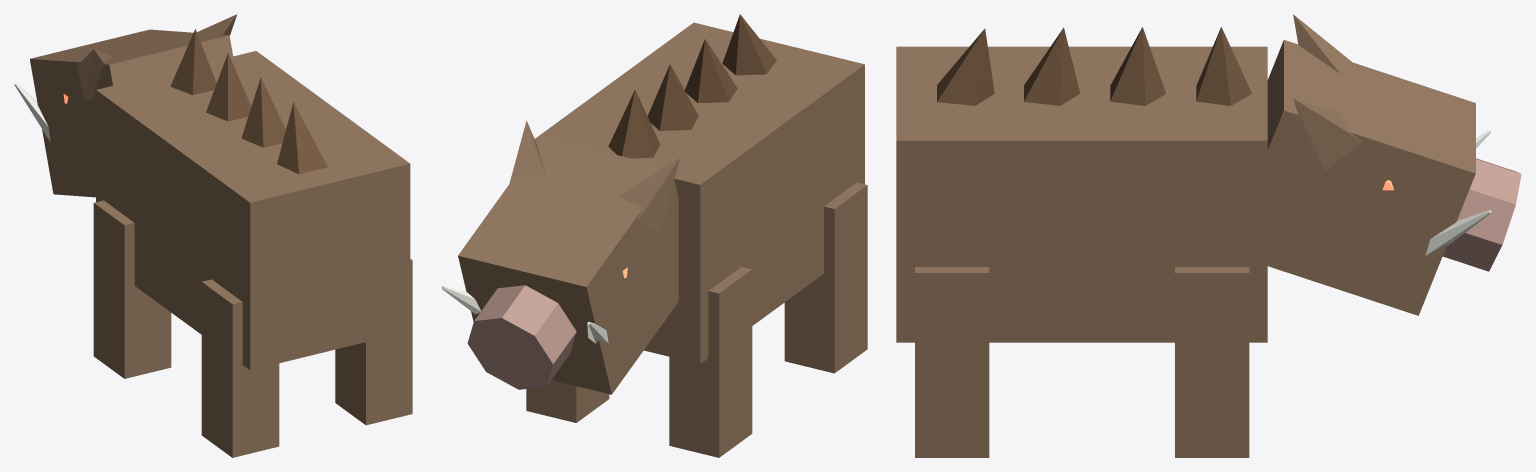
Rendered from WildBoar.fbx.
The picture shows the model from 3 angles, left to right: view 1: azimuth 30°, elevation 25°; view 2: azimuth 150°, elevation 25°; view 3: azimuth 270°, elevation 25°; orthographic projection. The views are drawn at different scales.
Parts seen in each view (by area): view 1: Torso, Head, Leg_BL, Leg_FL, Leg_BR, Mane_Chunk_1, Mane_Chunk_2, Mane_Chunk_3, Mane_Chunk_4, Ear_L, Ear_R, Tusk_L; view 2: Torso, Head, Leg_FL, Leg_BL, Snout, Leg_FR, Mane_Chunk_4, Ear_L, Mane_Chunk_3, Mane_Chunk_2, Mane_Chunk_1, Ear_R (+1 smaller); view 3: Torso, Head, Leg_BR, Leg_FR, Snout, Mane_Chunk_1, Mane_Chunk_2, Mane_Chunk_3, Mane_Chunk_4, Ear_R, Ear_L, Tusk_R.
Boxes of the visible parts, x1,y1,x2,y2 form: Torso: [96, 51, 410, 370]; Head: [30, 29, 232, 197]; Leg_BL: [201, 279, 279, 457]; Leg_FL: [93, 200, 171, 378]; Leg_BR: [335, 259, 412, 425]; Mane_Chunk_1: [277, 102, 327, 174]; Mane_Chunk_2: [241, 77, 285, 147]; Mane_Chunk_3: [206, 53, 251, 121]; Mane_Chunk_4: [170, 29, 216, 95]; Ear_L: [76, 49, 112, 100]; Ear_R: [180, 14, 237, 39]; Tusk_L: [14, 83, 50, 141]; Torso: [534, 22, 864, 363]; Head: [458, 137, 678, 394]; Leg_FL: [669, 267, 752, 457]; Leg_BL: [784, 182, 867, 373]; Snout: [467, 285, 576, 389]; Leg_FR: [526, 380, 609, 422]; Mane_Chunk_4: [608, 89, 660, 158]; Ear_L: [618, 158, 679, 233]; Mane_Chunk_3: [647, 64, 698, 130]; Mane_Chunk_2: [685, 39, 737, 103]; Mane_Chunk_1: [722, 14, 776, 75]; Ear_R: [509, 120, 546, 183]; Torso: [896, 46, 1267, 342]; Head: [1267, 40, 1475, 315]; Leg_BR: [915, 267, 989, 457]; Leg_FR: [1175, 267, 1249, 457]; Snout: [1442, 158, 1521, 271]; Mane_Chunk_1: [937, 28, 994, 105]; Mane_Chunk_2: [1024, 27, 1080, 105]; Mane_Chunk_3: [1110, 27, 1165, 105]; Mane_Chunk_4: [1196, 27, 1251, 105]; Ear_R: [1293, 98, 1362, 170]; Ear_L: [1293, 14, 1351, 73]; Tusk_R: [1425, 210, 1491, 255].
Size of what is drawn, in the model's own units: 1.35 by 3.37 by 2.25.
